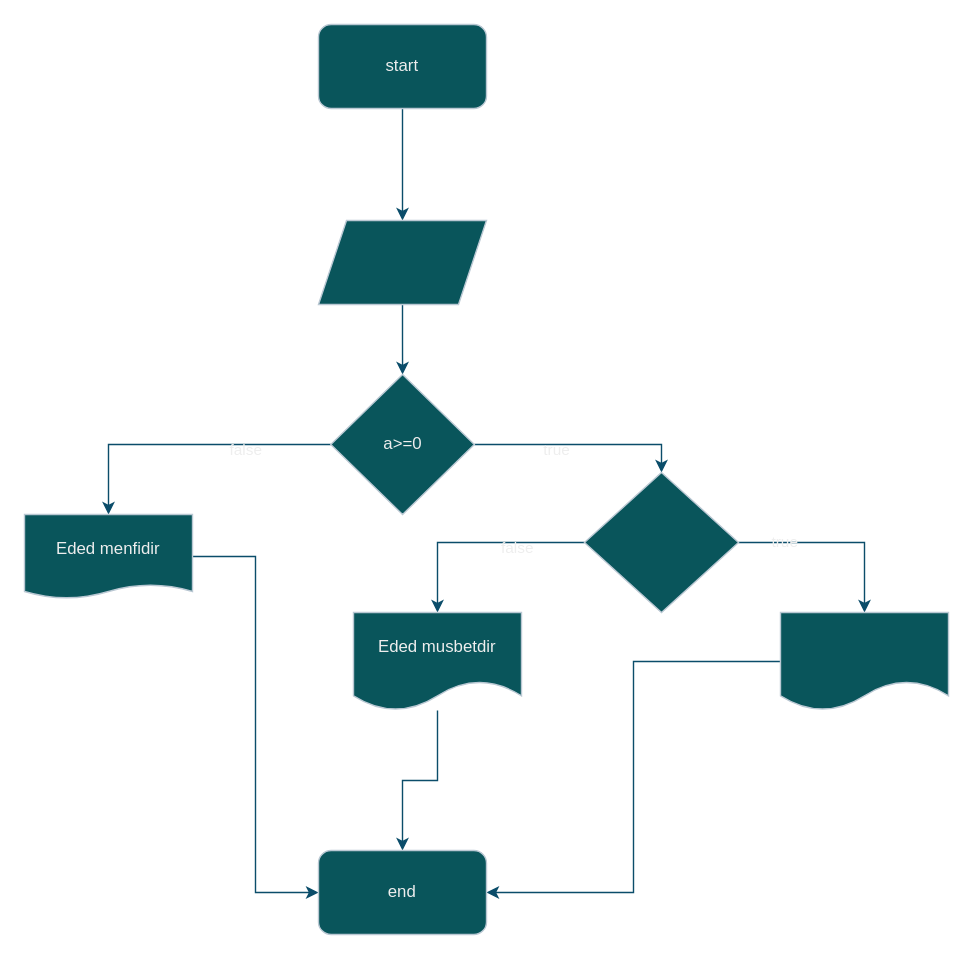
The diagram is 973 pixels wide and 959 high, and some of its shapes have lost their labels. The shapes that lost their labels are listed below. From the top down, each one's centre as x and y in pixels, then its label:
the point at 401,261: int a=
the point at 660,541: a==0
the point at 863,660: Eded 0 -dir
